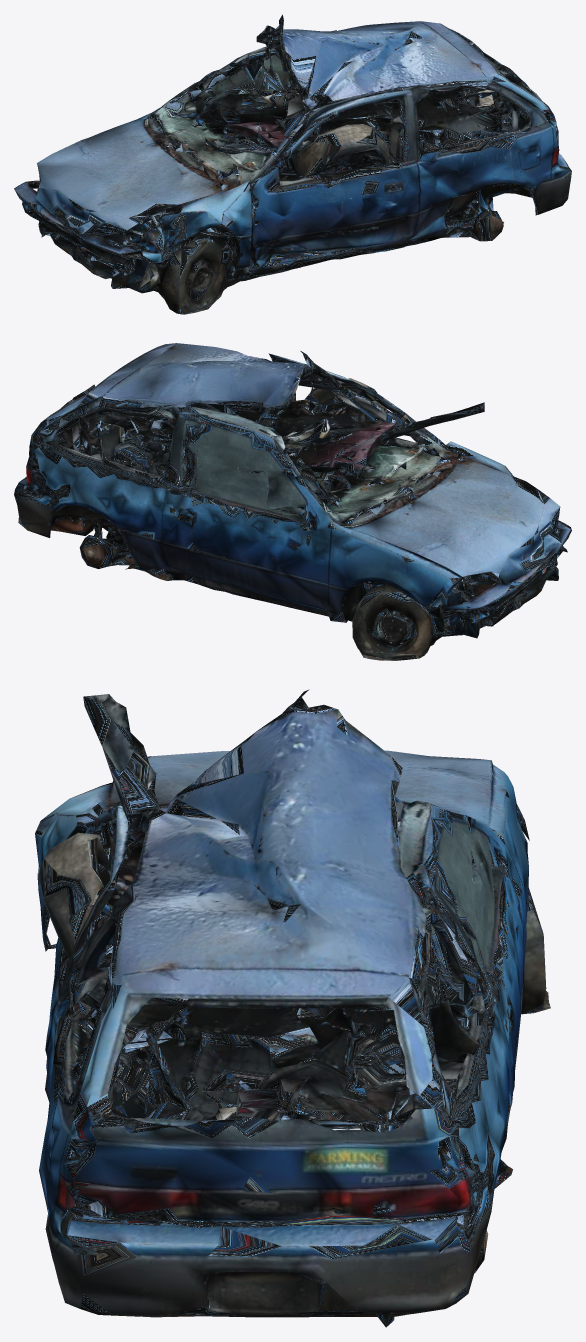
The model's file is wreck-e.glb.
3 renders of one model, top to bottom at view 1: azimuth 30°, elevation 25°; view 2: azimuth 150°, elevation 25°; view 3: azimuth 270°, elevation 25°, orthographic. The views are drawn at different scales.
Visible parts, largest first — view 1: scan; view 2: scan; view 3: scan.
Part boxes in pixels (x1,y1,x2,y2): scan: (14, 14, 571, 314); scan: (14, 343, 571, 660); scan: (35, 689, 550, 1327).
Bounding box in the file's own units: 15.65 × 7 × 7.44.
Materials: 1 (1 with a texture image).
